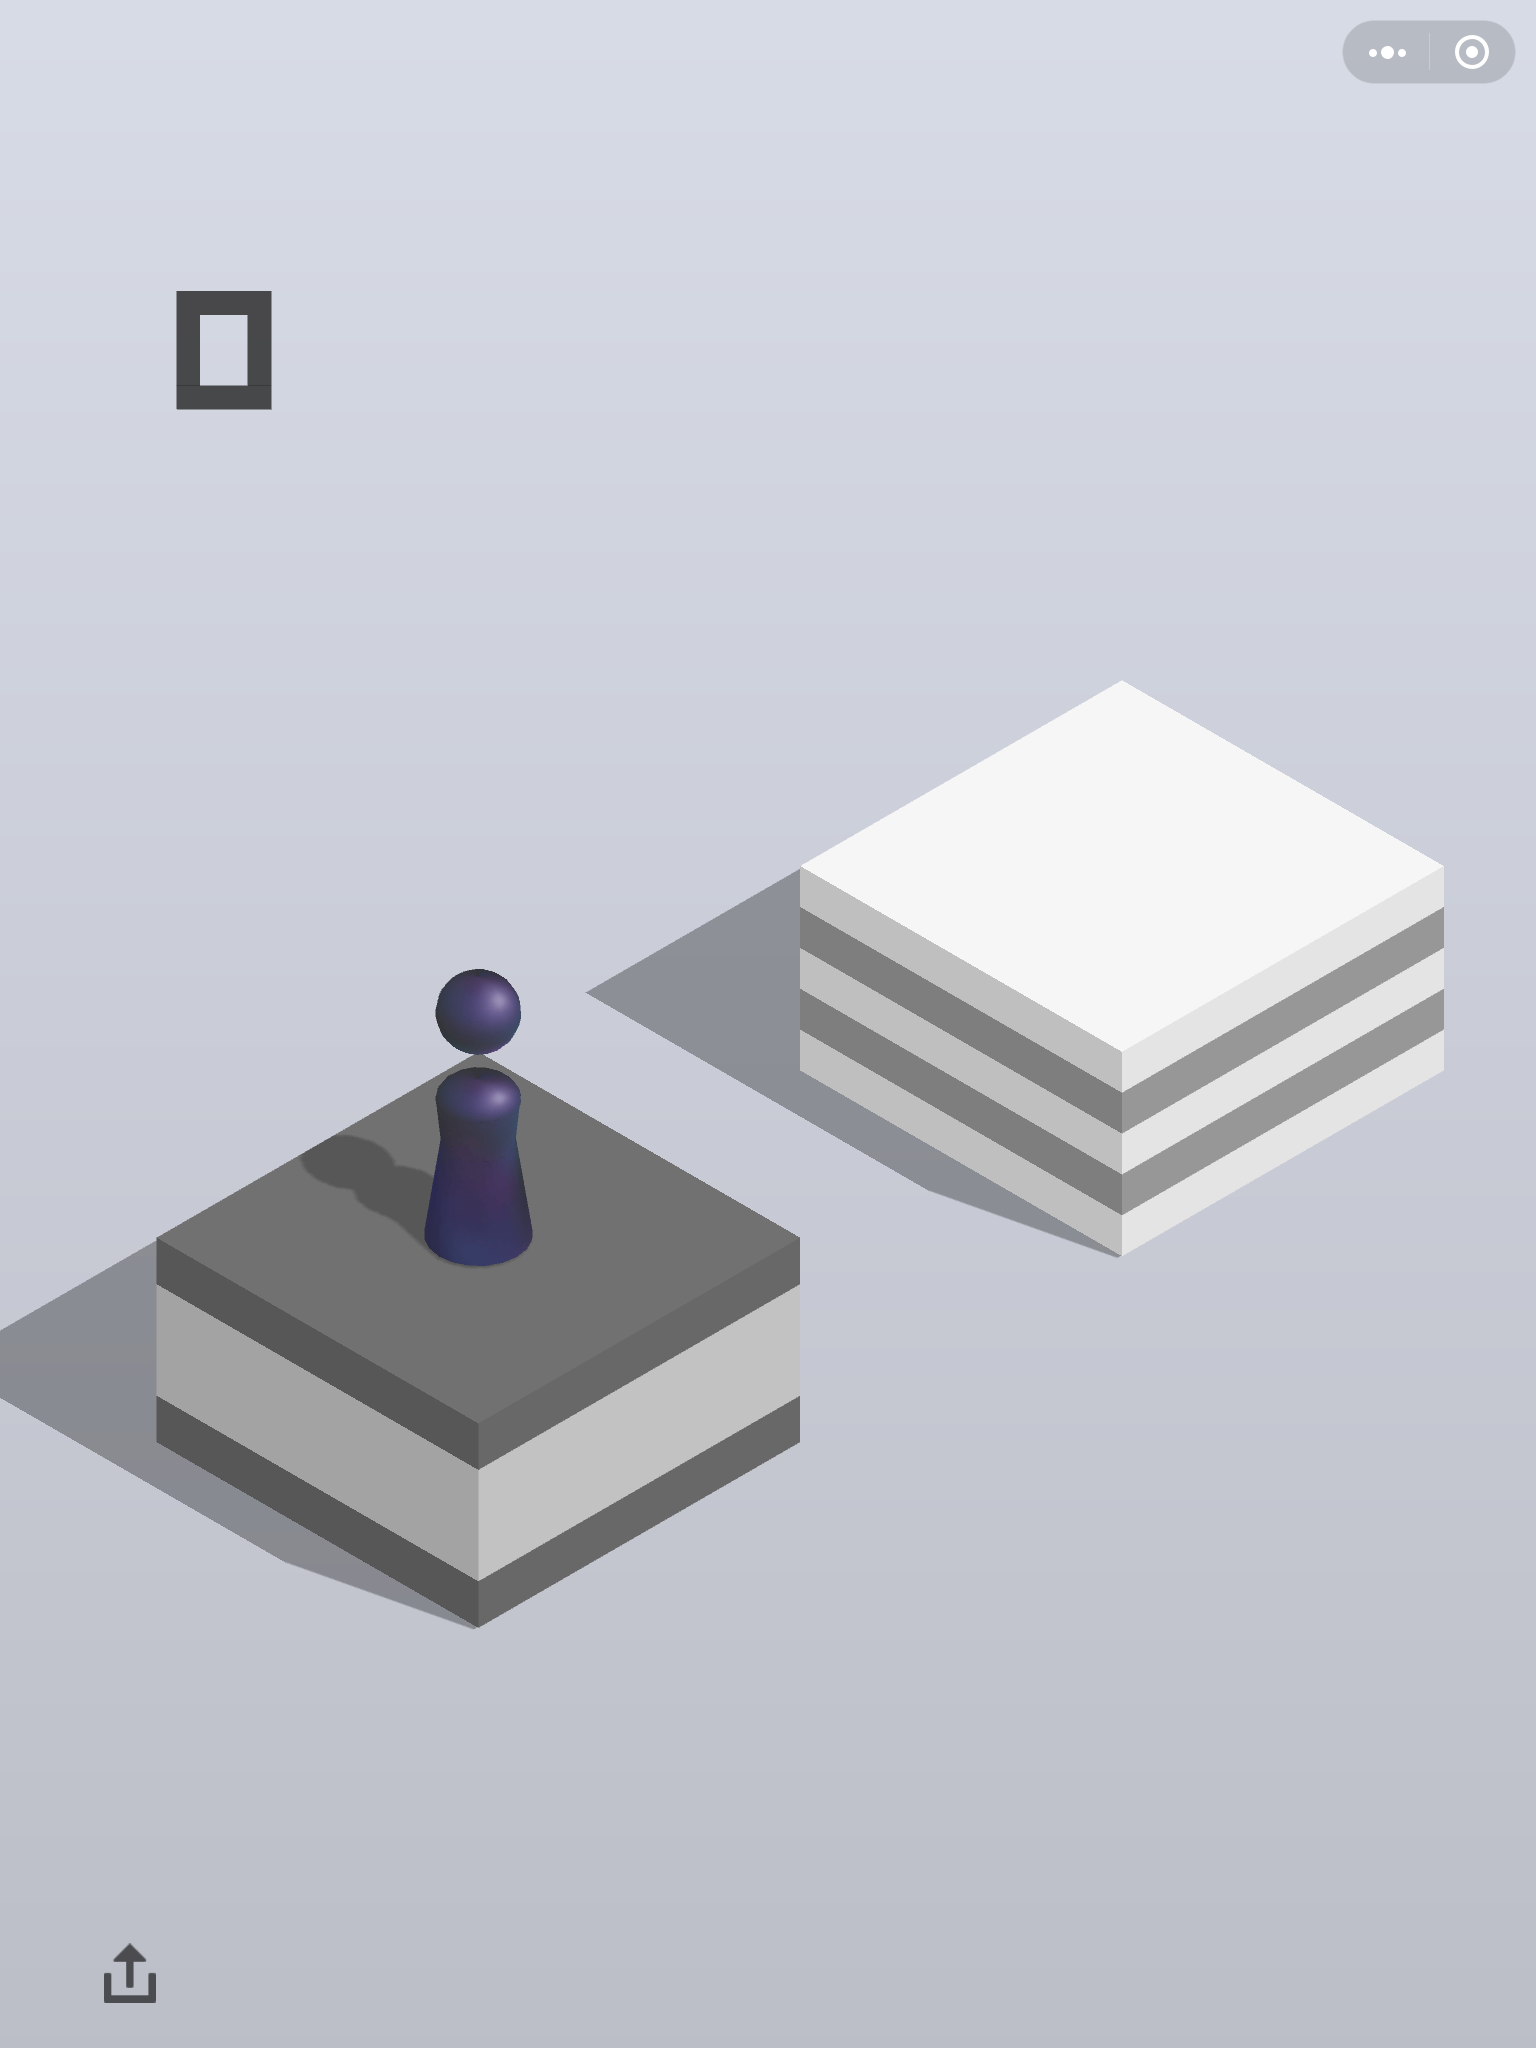f: (152, 1051, 807, 1637), (795, 676, 1449, 1256)
r: (423, 968, 536, 1268)
